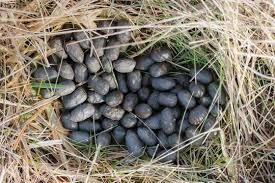Elk: (49, 40, 214, 159)
